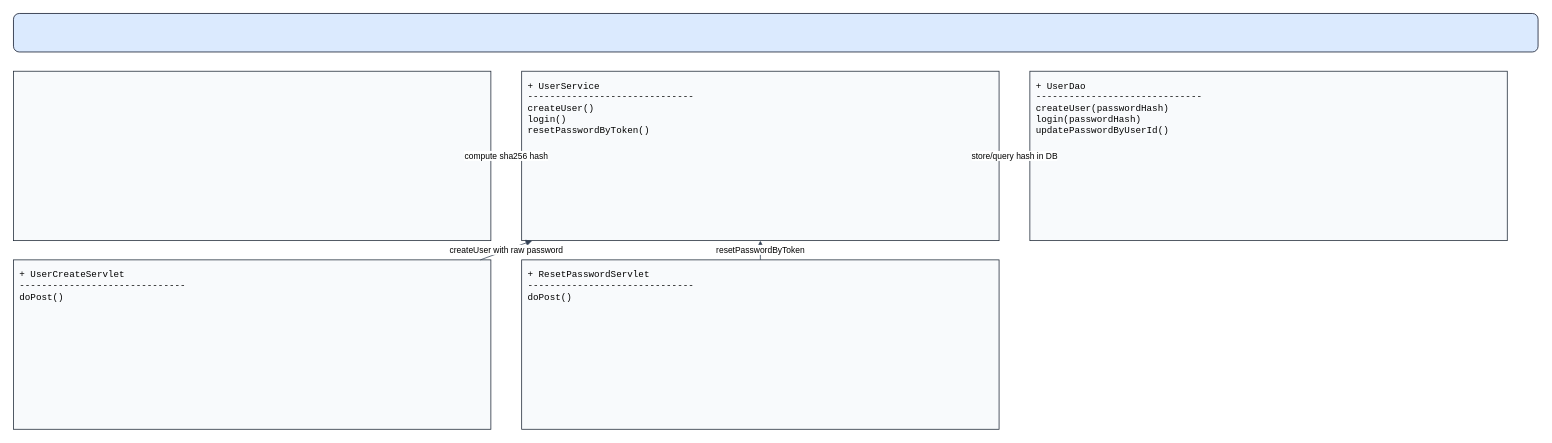
This 1552x443 diagram has some shape labels left out. The shapes that lost their labels are listed below. From the top down, each one's box as (x1, y1, x2, y2) in pixels, then its label:
(13, 13, 1538, 52): Class Diagram - Password Hashing (SHA-256)
(13, 70, 491, 241): + PasswordUtil ------------------------------ sha256(rawPassword)
